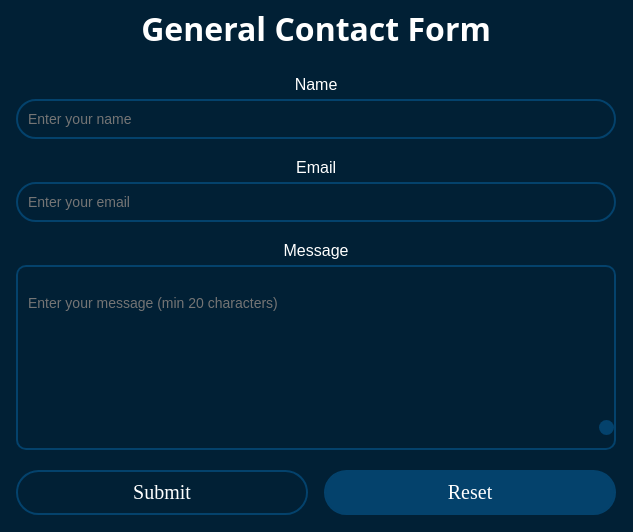
Test: GeneralForm › submits successfully, resets the form, and shows success modal
The image size is (633, 532).
Step 1. Type "Jane Doe" into the field labelled "Name" → (316, 119), box [16,99,616,139]
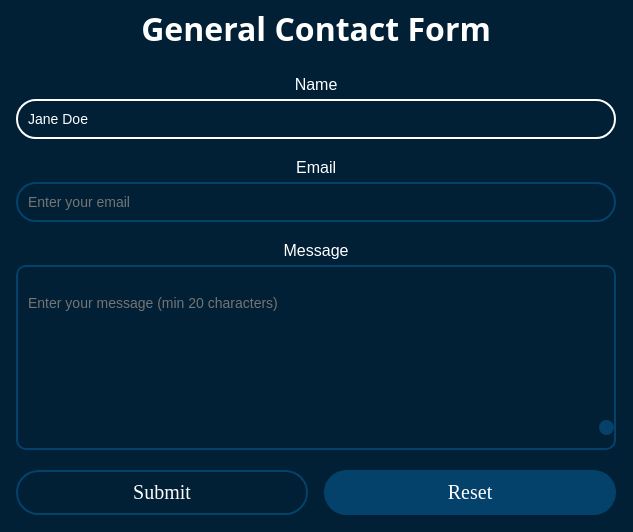
Step 2. Type "jane@example.com" into the field labelled "Email" → (316, 202), box [16,182,616,222]
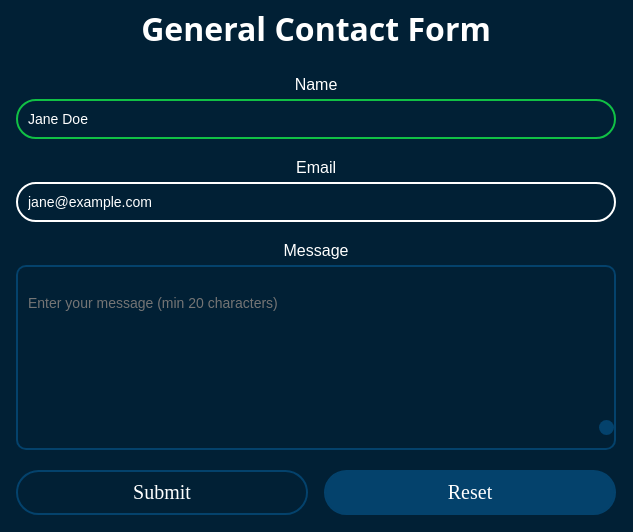
Step 3. Type "This is a long enough message to pass validation." into the text box labelled "Message" → (316, 355), box [18,275,614,435]
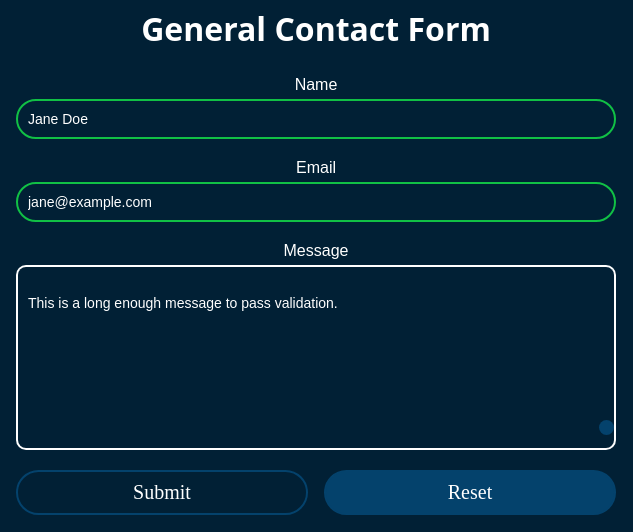
Step 4. Click the button "Submit" → (162, 493), box [16,470,308,515]
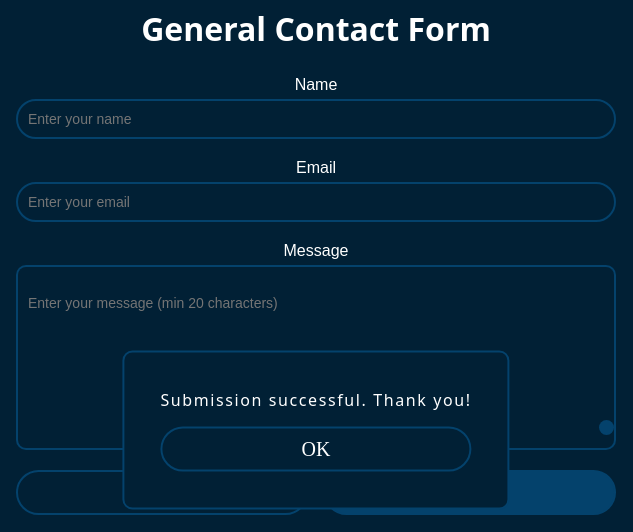
Now the text "Submission successful. Thank you!" is shown, box [160,388,472,410]
Now the field labelled "Name" is empty, box [16,99,616,139]
Now the field labelled "Email" is empty, box [16,182,616,222]
